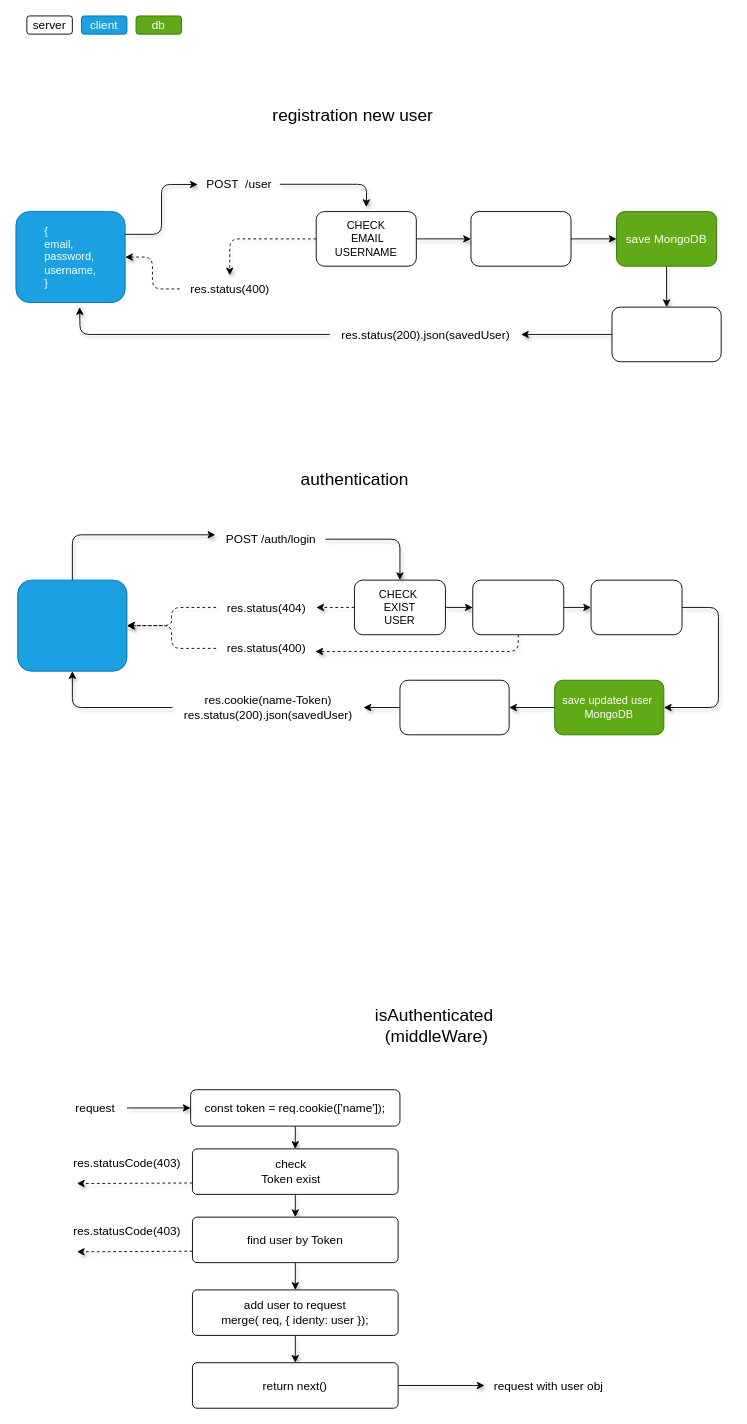
This 747x1424 diagram has some shape labels left out. The centre of each missing label's shape, as x and y in pixels:
"CHECK PASSWORD" goes at pixel 518 607.
"create Token add Token to user update user in Mongo" goes at pixel 636 607.
"HASH PASSWORD" goes at pixel 520 238.
"saved user {...args}" goes at pixel 666 334.
"send cookie name -Token send saved user" goes at pixel 454 707.
"{ email, password, }" goes at pixel 72 625.
